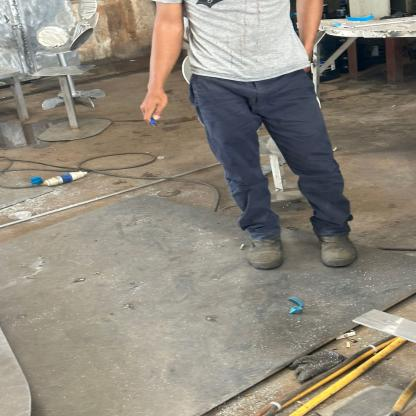bota: (311, 219, 365, 276), (244, 225, 290, 277)
